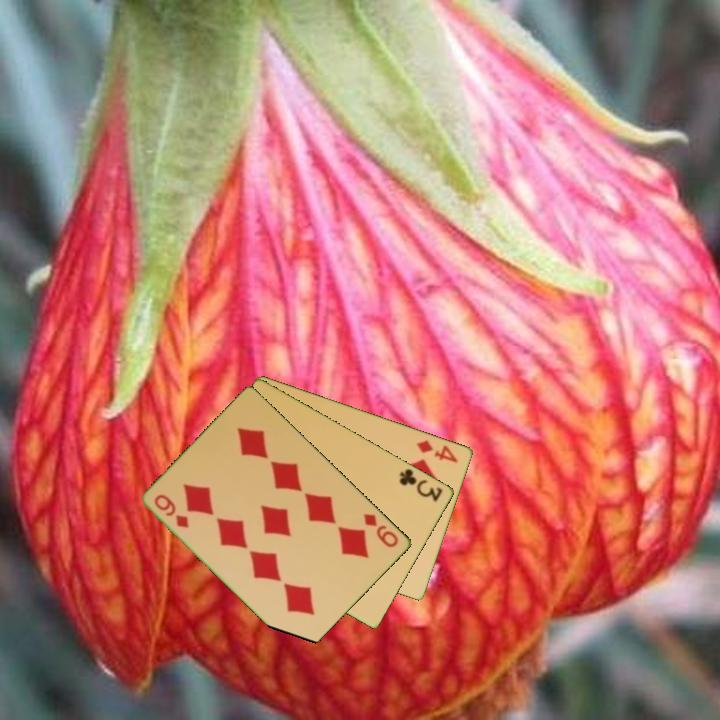3c: (396, 465, 446, 505)
4d: (413, 436, 461, 465)
9d: (360, 510, 402, 551), (151, 491, 192, 531)
